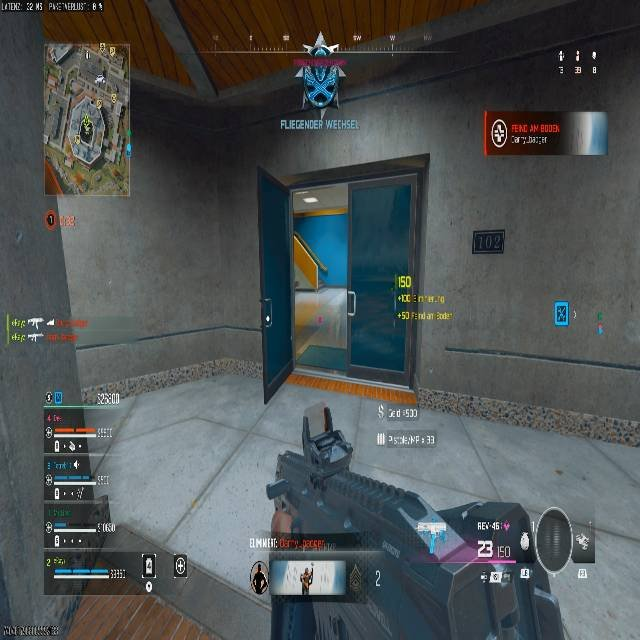player: (295, 61, 344, 118), (300, 566, 312, 593)
